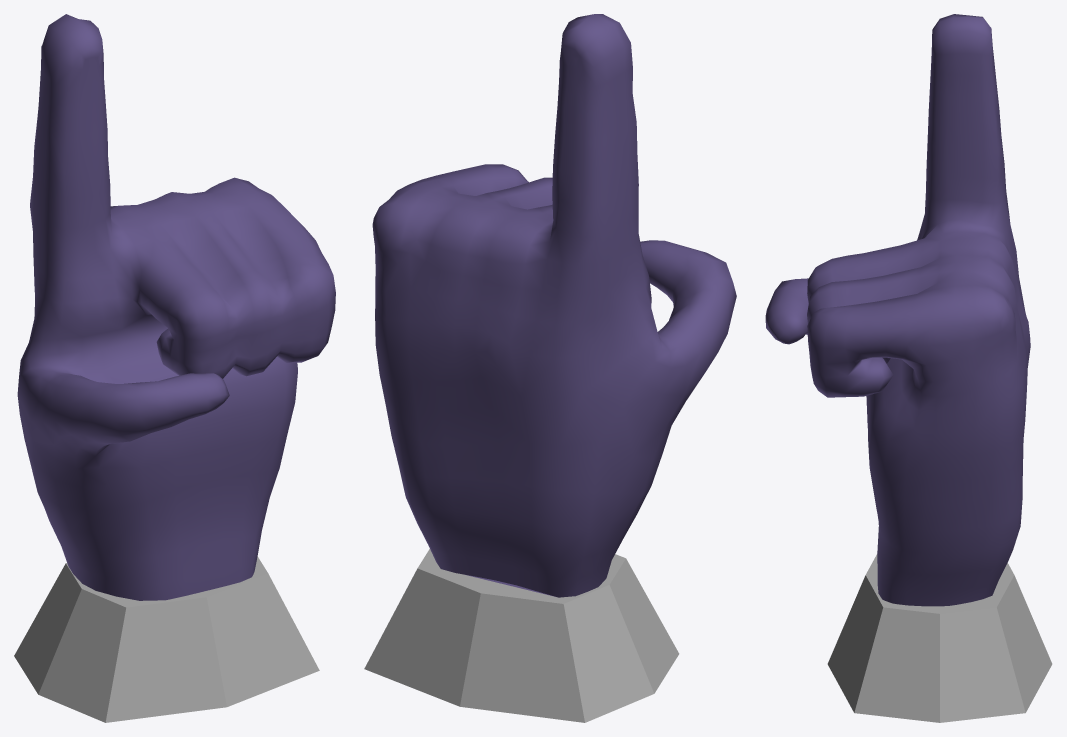
Rendered from AccusingHand.fbx.
3 views of the same model, side by side, from view 1: azimuth 30°, elevation 25°; view 2: azimuth 150°, elevation 25°; view 3: azimuth 270°, elevation 25° (orthographic). The views are drawn at different scales.
Visible parts, largest first — view 1: AccusingHand; view 2: AccusingHand; view 3: AccusingHand.
Boxes of the visible parts, <box> form: AccusingHand: <box>14,14,335,722</box>; AccusingHand: <box>364,14,736,722</box>; AccusingHand: <box>765,14,1052,722</box>.
Size of the model in its own units: 2.95 by 6.55 by 2.79.
